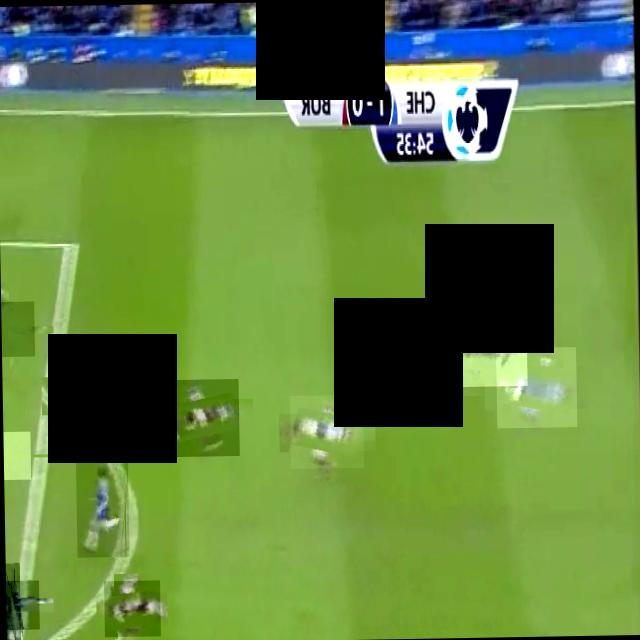referee: (446, 306, 526, 386)
soccer-player: (494, 347, 576, 428), (161, 378, 238, 456), (74, 452, 128, 556), (288, 393, 362, 468), (56, 358, 129, 430), (102, 580, 159, 636), (0, 300, 33, 356), (4, 579, 38, 629), (2, 431, 30, 478), (4, 561, 19, 640)
